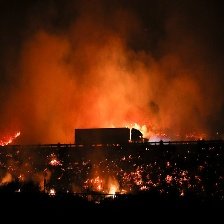fire: (129, 157, 200, 203), (1, 126, 21, 154), (83, 173, 108, 195), (128, 120, 149, 138), (103, 177, 117, 198), (47, 154, 61, 171), (45, 185, 55, 200)
smoke: (3, 30, 213, 129)
